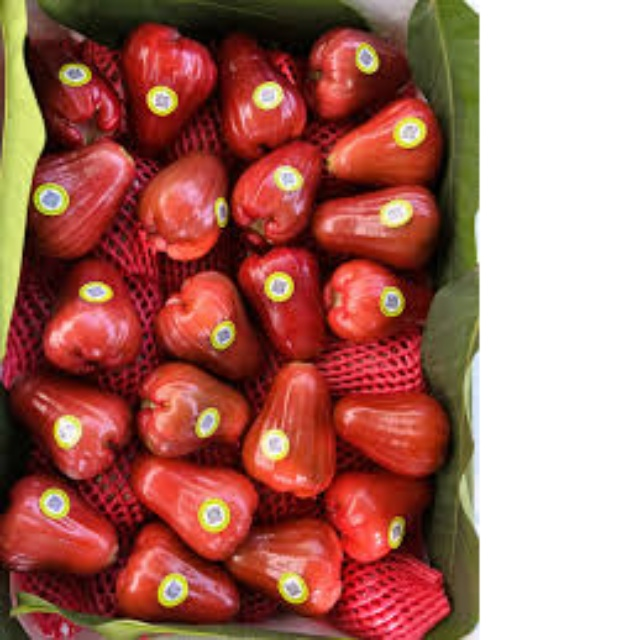xoai: (325, 375, 452, 486), (122, 19, 216, 143), (208, 35, 302, 149), (145, 142, 229, 256)
